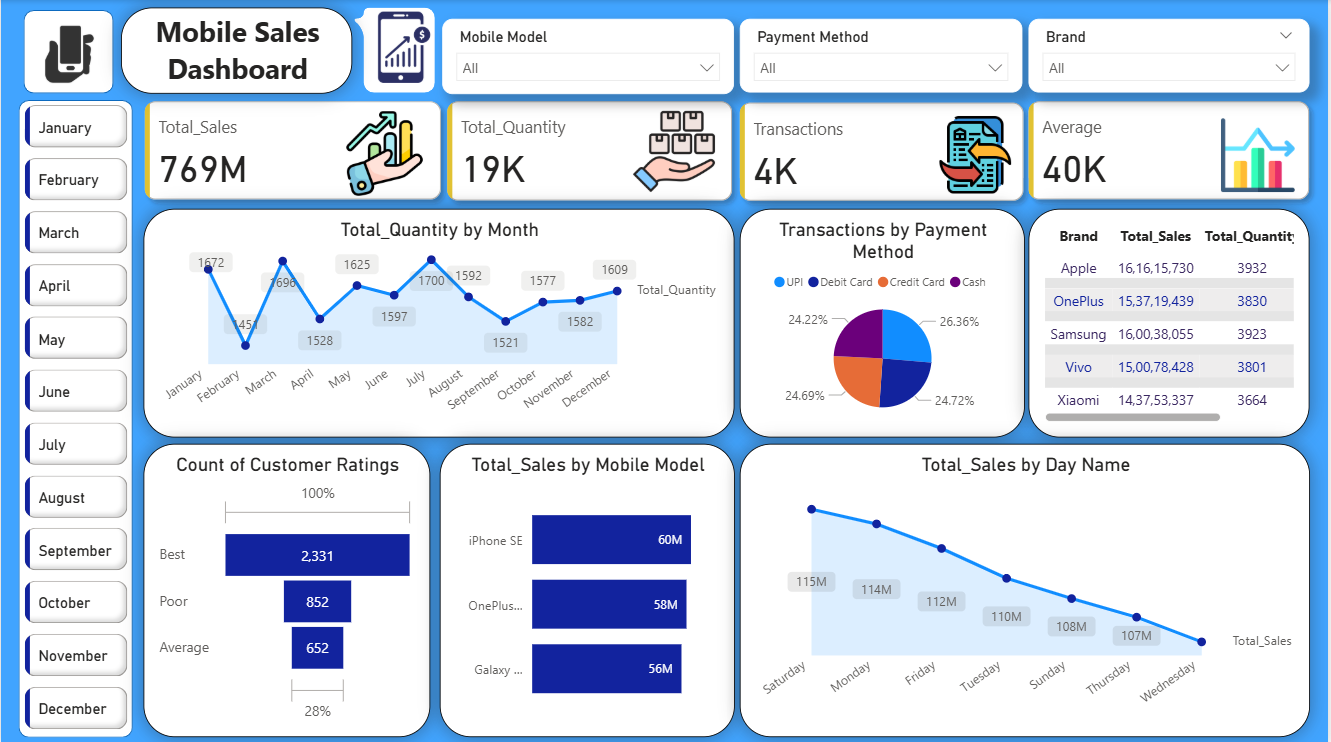

This screenshot's page, from the dashboard's own definition file:
{"tool":"powerbi","page":{"name":"Dashboard","canvas":[1280,720],"ordinal":0},"visuals":[{"type":"shape","box":[22.1,9.1,87,80.5],"z":0},{"type":"shape","box":[16.9,96.1,110.4,615.6],"z":1000},{"type":"cardVisual","fields":{"Data":["Sales_Data.Total_Sales"]},"box":[122.1,80.5,320,129.9],"z":2000},{"type":"shape","box":[338.1,6.7,81,82.3],"z":3000},{"type":"image","box":[349.5,2.9,78.5,86.1],"z":4000},{"type":"shape","box":[115.6,7.8,223.4,83.1],"z":5000},{"type":"textbox","box":[131.2,7.8,193.5,88.3],"z":6000},{"type":"advancedSlicerVisual","fields":{"Values":["Custom_Calender.Date.Variation.Date Hierarchy.Month"]},"box":[18.2,96.1,109.1,620.8],"z":7000},{"type":"cardVisual","fields":{"Data":["Sales_Data.Total_Quantity"]},"box":[413.9,81,309,130.4],"z":8000},{"type":"image","box":[16.9,9.1,98.7,85.7],"z":9000},{"type":"cardVisual","fields":{"Data":["Sales_Data.Transactions"]},"box":[696.1,81.8,308,129.9],"z":10000},{"type":"cardVisual","fields":{"Data":["Sales_Data.Average"]},"box":[975.3,80.5,305.2,129.9],"z":11000},{"type":"image","box":[1172.2,108.9,81,82.3],"z":12000},{"type":"image","box":[315.2,102.5,110.1,91.1],"z":13000},{"type":"image","box":[603.8,101.3,92.4,89.9],"z":14000},{"type":"image","box":[894.9,105.1,91.1,88.6],"z":15000},{"type":"slicer","fields":{"Values":["Sales_Data.Mobile Model"]},"box":[426,18.2,281.8,72.7],"z":16000},{"type":"slicer","fields":{"Values":["Sales_Data.Payment Method"]},"box":[713,18.2,272.7,71.4],"z":17000},{"type":"slicer","fields":{"Values":["Sales_Data.Brand"]},"box":[992.2,18.2,271.4,71.4],"z":18000},{"type":"lineChart","fields":{"Y":["Sales_Data.Total_Quantity"],"Category":["Custom_Calender.Date.Variation.Date Hierarchy.Month"]},"box":[137.7,201.3,570.1,220.8],"z":19000},{"type":"funnel","title":"Count of Customer Ratings","fields":{"Category":["Sales_Data.Rating_Status"],"Y":["CountNonNull(Sales_Data.Customer Ratings)"]},"box":[137.7,428.6,276.6,283.1],"z":20000},{"type":"barChart","fields":{"Category":["Sales_Data.Mobile Model"],"Y":["Sales_Data.Total_Sales"]},"box":[423.4,428.6,284.4,283.1],"z":21000},{"type":"pieChart","fields":{"Category":["Sales_Data.Payment Method"],"Y":["Sales_Data.Transactions"]},"box":[713,201.3,275.3,220.8],"z":22000},{"type":"tableEx","fields":{"Values":["Sales_Data.Brand","Sales_Data.Total_Sales","Sales_Data.Total_Quantity","Sales_Data.Transactions"]},"box":[992.2,201.3,271.4,220.8],"z":23000},{"type":"stackedAreaChart","fields":{"Y":["Sales_Data.Total_Sales"],"Category":["Sales_Data.Day Name"]},"box":[713,428.6,550.6,283.1],"z":24000}]}

Visuals, with their boxes in screenshot pixels (x1, y1, x2, y2), scaled from the page's 1280x720 canvas onto the 1331x742 screenshot:
shape: 23 9 113 92
shape: 18 99 132 733
cardVisual - Sales_Data.Total_Sales: 127 83 460 217
shape: 352 7 436 92
image: 363 3 445 92
shape: 120 8 353 94
textbox: 136 8 338 99
advancedSlicerVisual - Custom_Calender.Date.Variation.Date Hierarchy.Month: 19 99 132 739
cardVisual - Sales_Data.Total_Quantity: 430 83 752 218
image: 18 9 120 98
cardVisual - Sales_Data.Transactions: 724 84 1044 218
cardVisual - Sales_Data.Average: 1014 83 1330 217
image: 1219 112 1303 197
image: 328 106 442 200
image: 628 104 724 197
image: 931 108 1025 200
slicer - Sales_Data.Mobile Model: 443 19 736 94
slicer - Sales_Data.Payment Method: 741 19 1025 92
slicer - Sales_Data.Brand: 1032 19 1314 92
lineChart - Sales_Data.Total_Quantity x Custom_Calender.Date.Variation.Date Hierarchy.Month: 143 207 736 435
"Count of Customer Ratings" funnel: 143 442 431 733
barChart - Sales_Data.Mobile Model x Sales_Data.Total_Sales: 440 442 736 733
pieChart - Sales_Data.Payment Method x Sales_Data.Transactions: 741 207 1028 435
tableEx - Sales_Data.Brand x Sales_Data.Total_Sales: 1032 207 1314 435
stackedAreaChart - Sales_Data.Total_Sales x Sales_Data.Day Name: 741 442 1314 733
